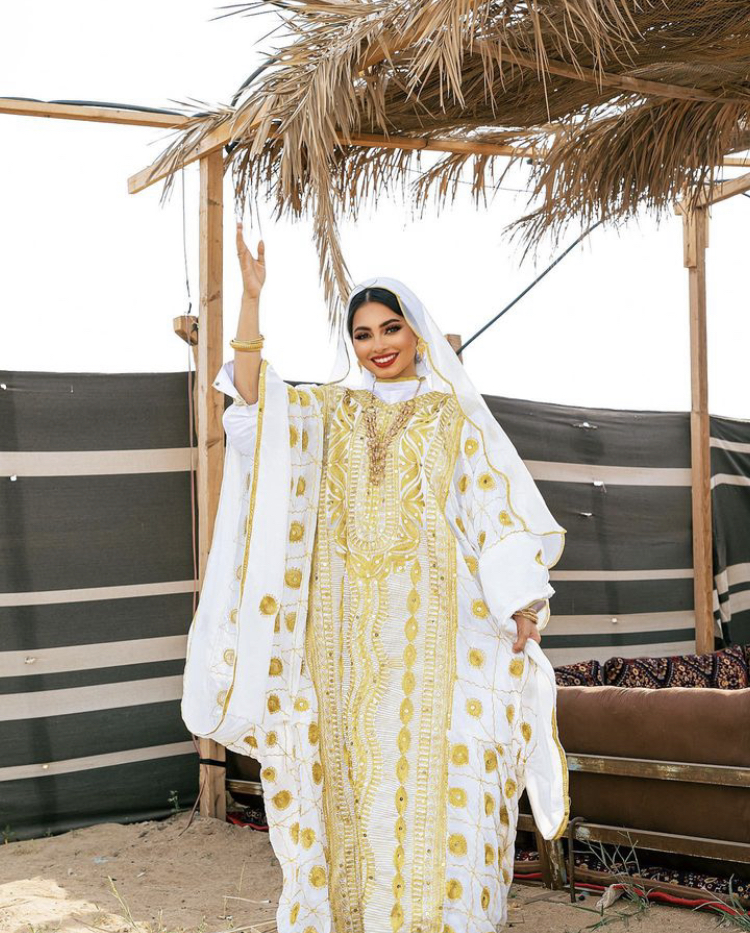Saudi_Founding_Day: (176, 219, 578, 933)
